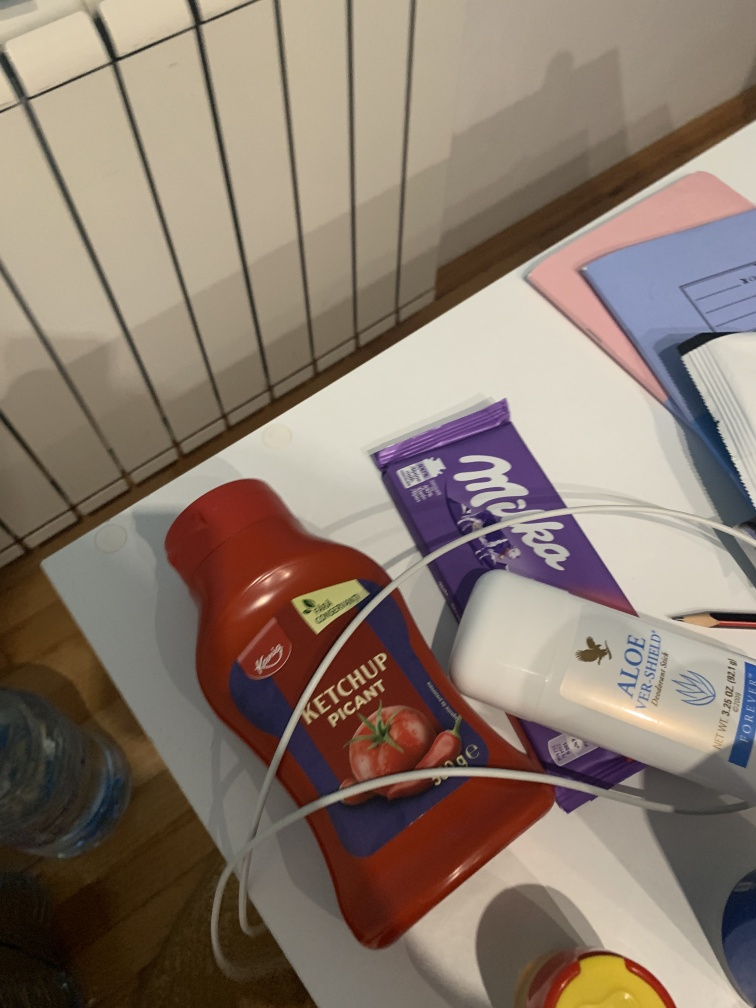ketchup: (135, 475, 561, 949)
milka: (364, 390, 696, 811)
